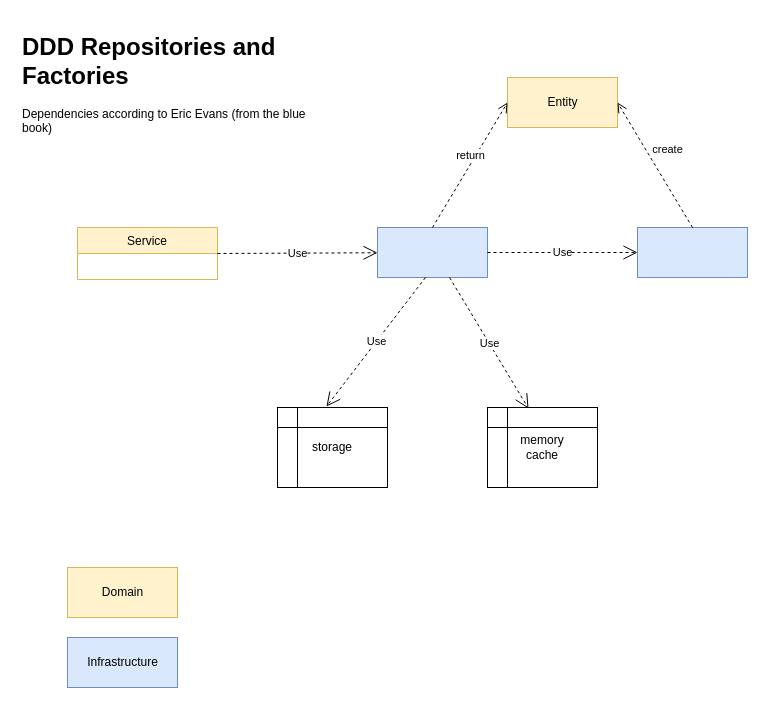
The diagram is 765 pixels wide and 705 high, and some of its shapes have lost their labels. Each missing label, with the centre of its shape:
«interface» Factory: the point at 692,252
«interface» Repository: the point at 432,252
